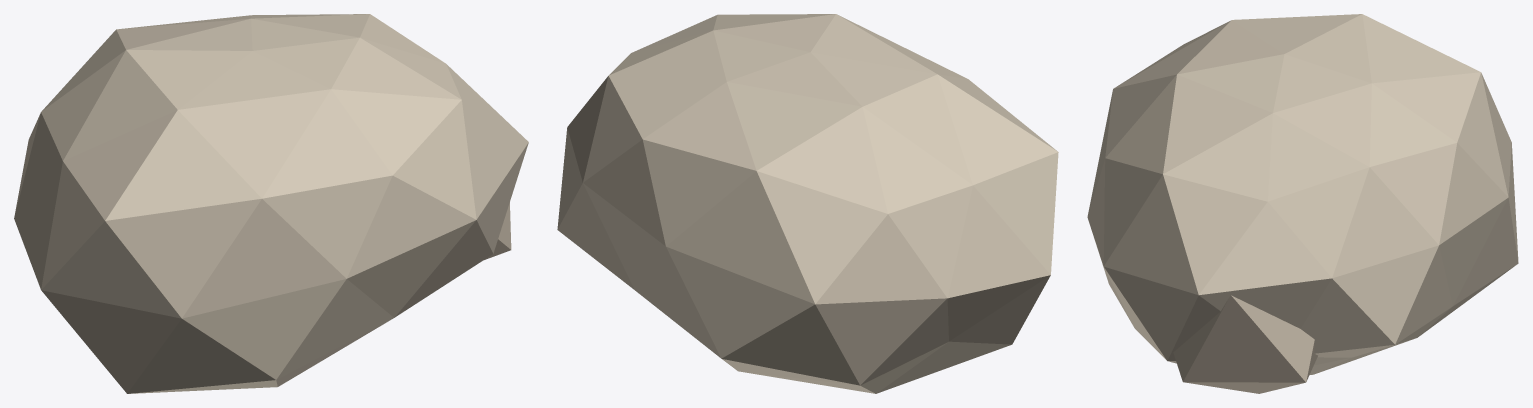
File: campo_rock_granite_3.glb
The picture shows the model from 3 angles, left to right: view 1: azimuth 30°, elevation 25°; view 2: azimuth 150°, elevation 25°; view 3: azimuth 270°, elevation 25°; orthographic projection. The views are drawn at different scales.
Visible parts, largest first — view 1: campo_rock_granite_3.glb; view 2: campo_rock_granite_3.glb; view 3: campo_rock_granite_3.glb.
Boxes of the visible parts, x1,y1,x2,y2 form: campo_rock_granite_3.glb: (14, 14, 528, 393); campo_rock_granite_3.glb: (557, 14, 1058, 393); campo_rock_granite_3.glb: (1087, 14, 1518, 393).
Bounding box in the file's own units: 2.17 × 1.38 × 1.7.
